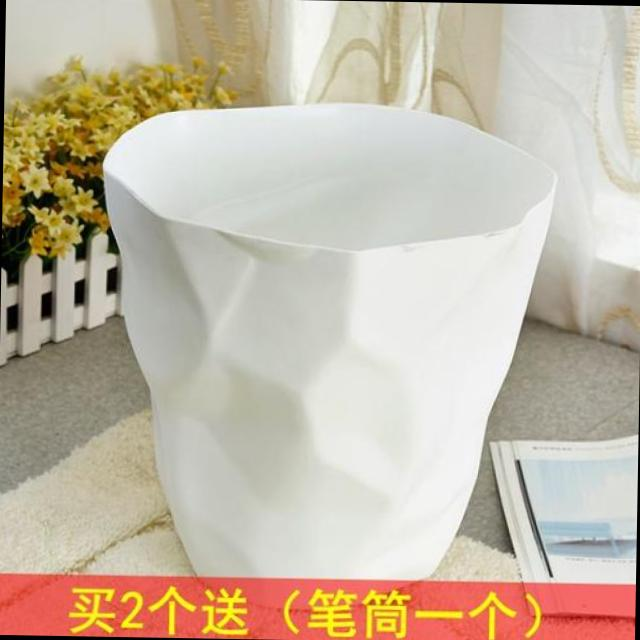dustbin: (95, 93, 570, 606)
